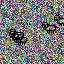sheep: (10, 29, 24, 40), (43, 22, 56, 33), (9, 32, 23, 42), (14, 35, 26, 45), (54, 15, 64, 26)
